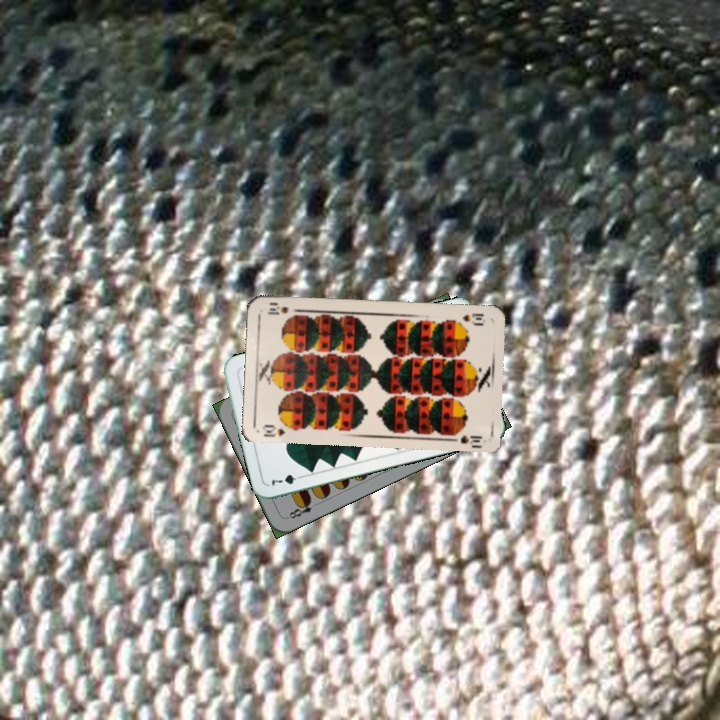E8: (283, 496, 321, 521)
G7: (267, 470, 306, 489)
S10: (258, 419, 296, 439), (458, 309, 488, 327)
